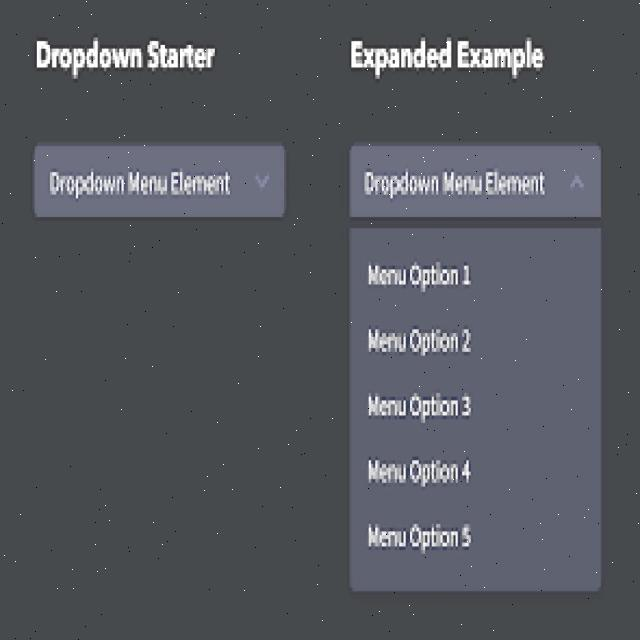dropdownMenu: (348, 147, 602, 593), (34, 148, 286, 217)
label: (344, 34, 553, 82), (33, 36, 227, 81)
menuItem: (358, 312, 480, 361), (366, 516, 479, 561), (361, 448, 479, 491), (364, 384, 479, 428), (361, 253, 478, 292)
